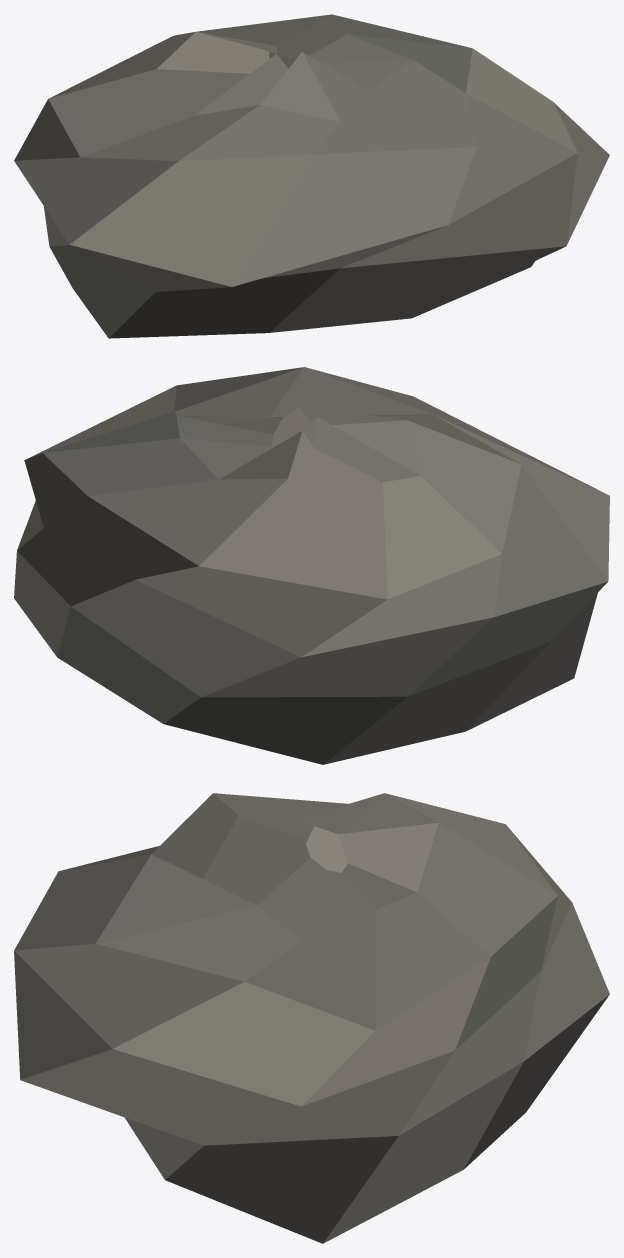
Rendered from boulder_b.glb.
The picture shows the model from 3 angles, top to bottom: view 1: azimuth 30°, elevation 25°; view 2: azimuth 150°, elevation 25°; view 3: azimuth 270°, elevation 25°; orthographic projection. The views are drawn at different scales.
Visible parts, largest first — view 1: boulder_b; view 2: boulder_b; view 3: boulder_b.
Boxes of the visible parts, left/top/right/bottom form: boulder_b: left=14, top=14, right=609, bottom=338; boulder_b: left=14, top=367, right=609, bottom=764; boulder_b: left=14, top=793, right=609, bottom=1243.
Bounding box in the file's own units: 2.51 × 1.05 × 2.15.
1 material, 1 textured.
